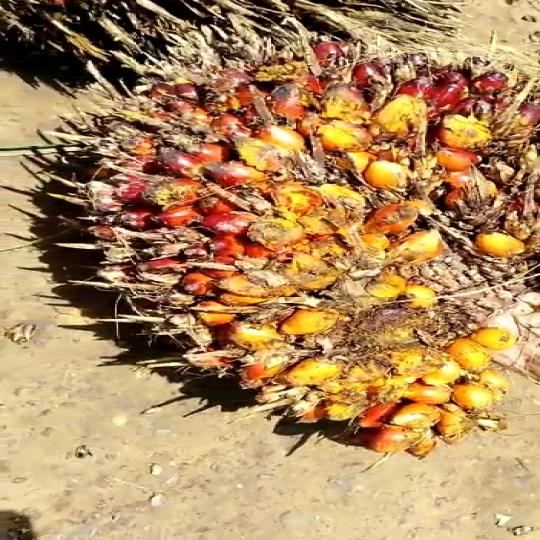masak: (31, 39, 540, 462)
